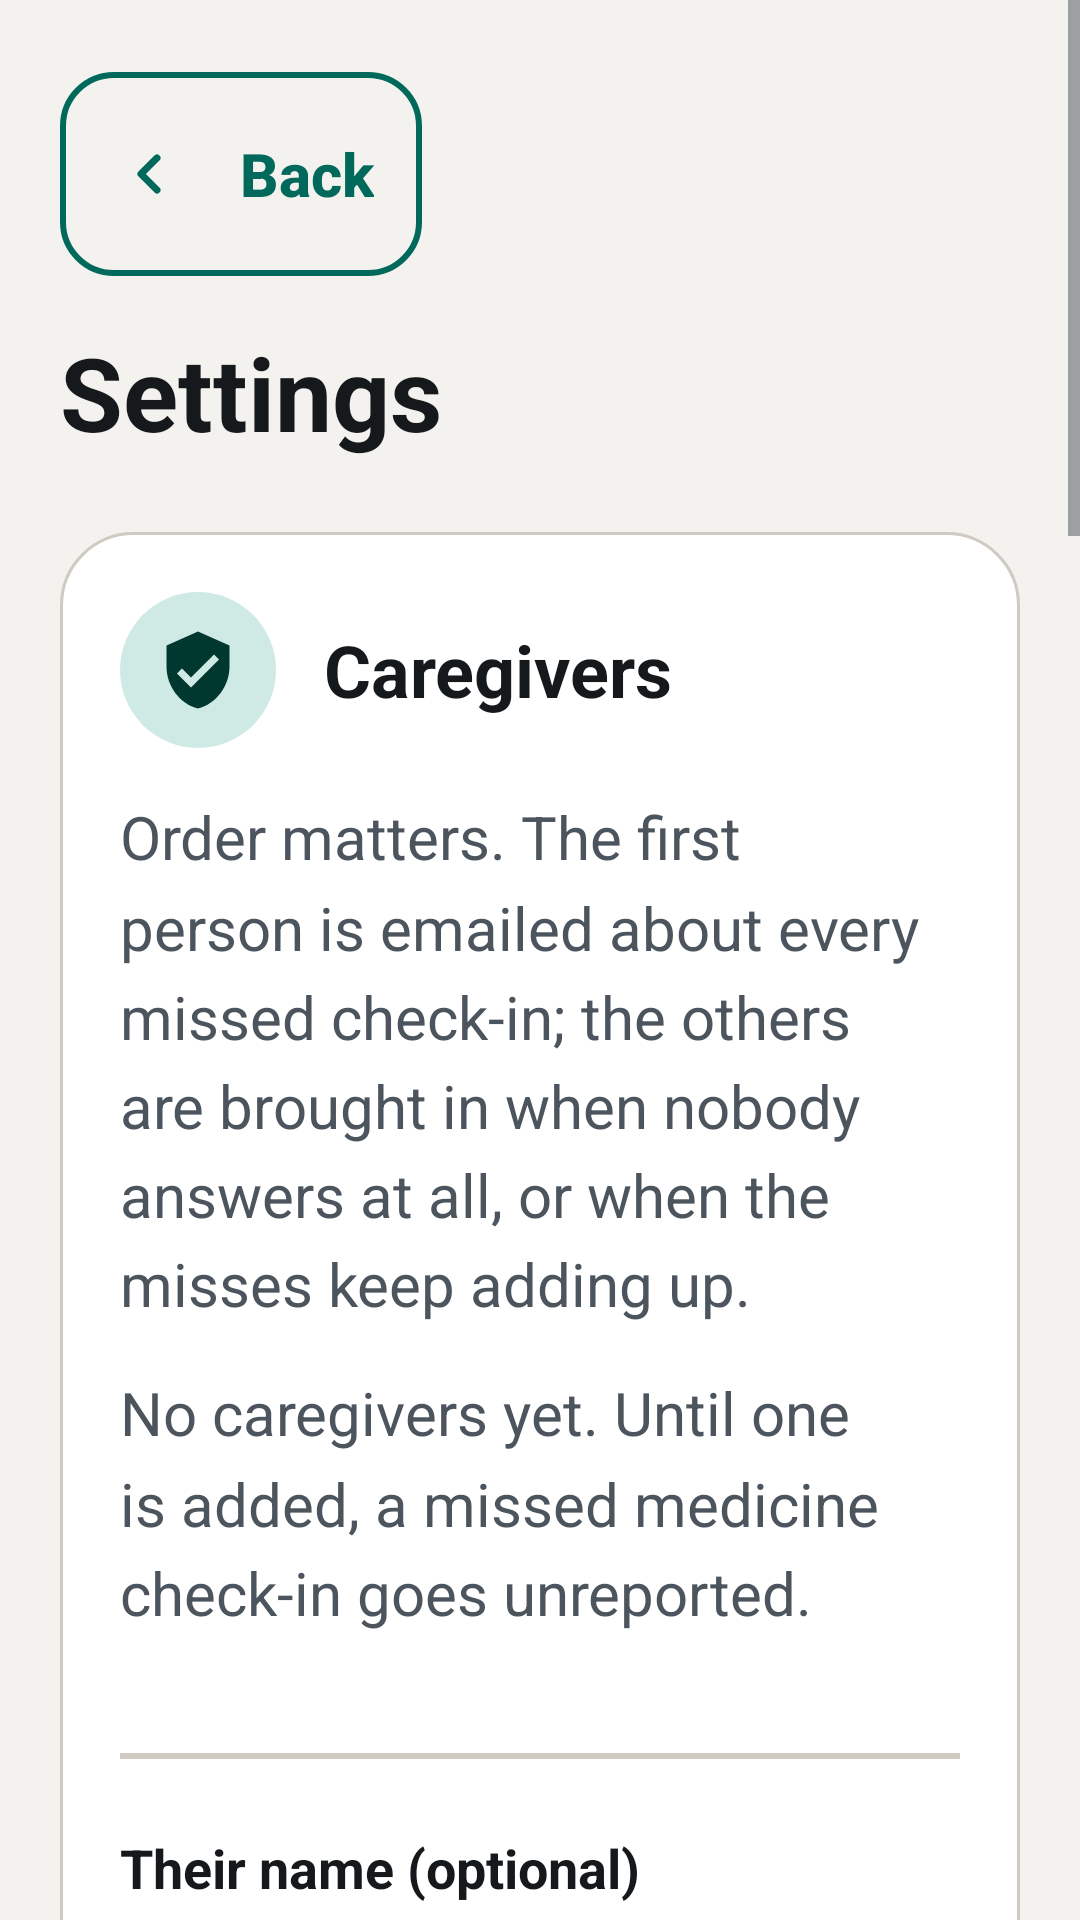

Screen size 1080px x 1920px. Icon name, then its box in pixels as (x1, y1, x2, y2):
shield: (120, 592, 276, 748)
